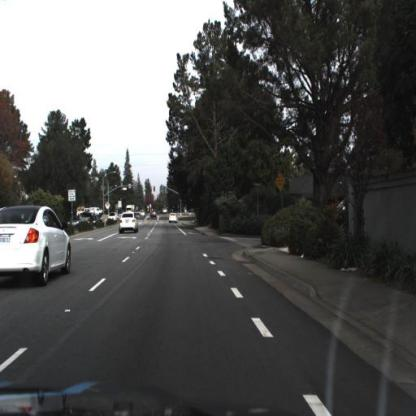car: (2, 201, 77, 288), (1, 205, 75, 287), (120, 211, 140, 236), (86, 211, 103, 230), (166, 211, 180, 232), (69, 213, 84, 230), (88, 215, 102, 229), (167, 209, 179, 225), (150, 211, 159, 223)
